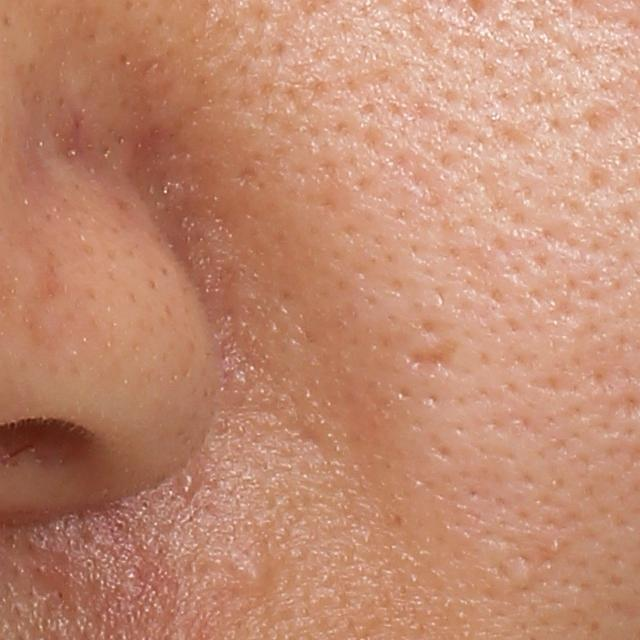atrophic_scar: (407, 340, 461, 378), (585, 104, 620, 134)
comedo: (230, 551, 280, 596), (545, 537, 565, 555)
